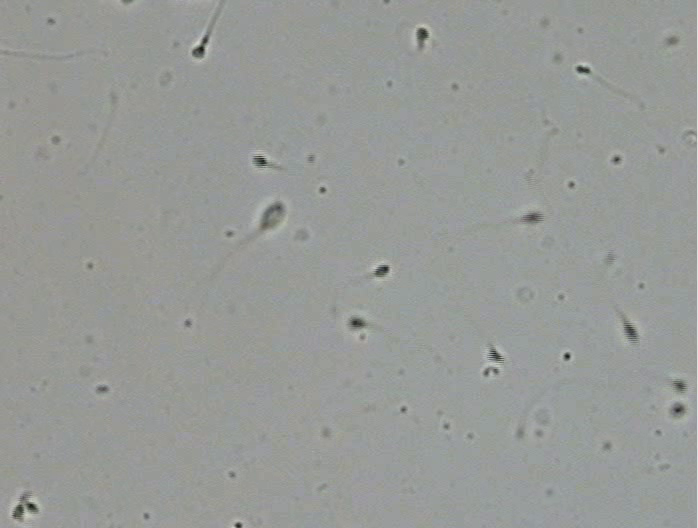S: (259, 202, 286, 231), (623, 321, 640, 344), (346, 316, 365, 330), (522, 212, 544, 223), (252, 154, 268, 168), (415, 27, 429, 42), (670, 403, 685, 417), (11, 504, 24, 520), (487, 349, 503, 362), (374, 264, 389, 277), (673, 379, 686, 393), (192, 46, 205, 59), (25, 502, 39, 514), (575, 65, 590, 74)
